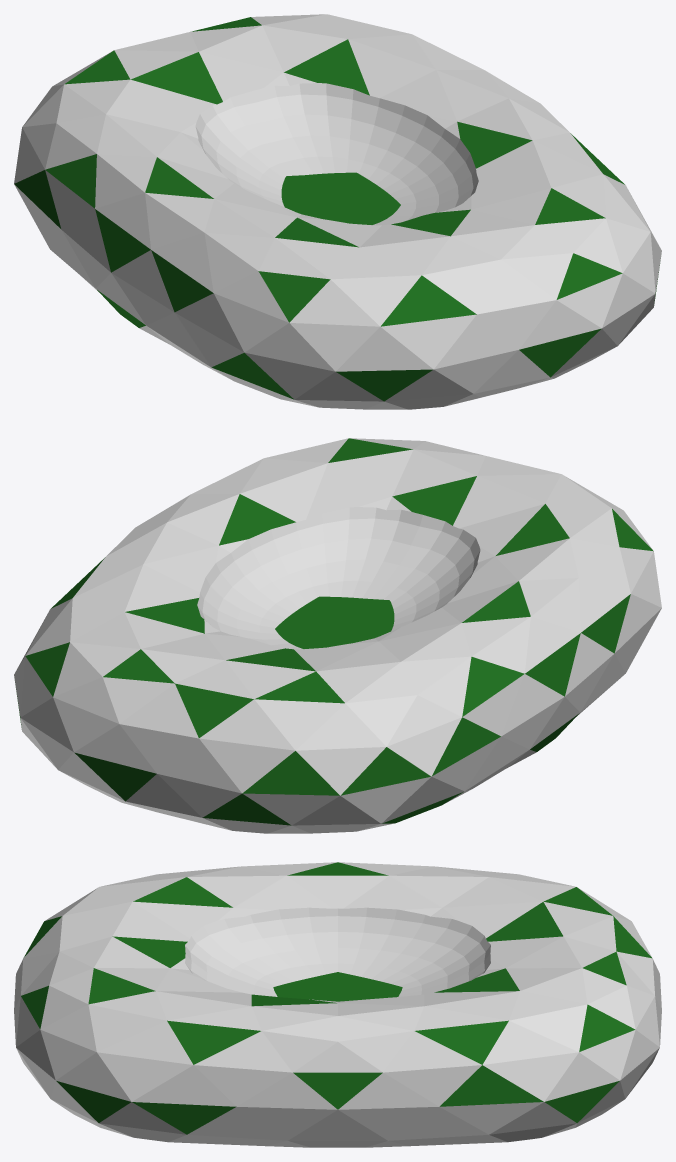
Rendered from stadyum.glb.
The picture shows the model from 3 angles, top to bottom: view 1: azimuth 30°, elevation 25°; view 2: azimuth 150°, elevation 25°; view 3: azimuth 270°, elevation 25°; orthographic projection. The views are drawn at different scales.
Parts seen in each view (by area): view 1: Icosphere; view 2: Icosphere; view 3: Icosphere.
Part boxes in pixels (<box>): Icosphere: <box>14,14,661,409</box>; Icosphere: <box>14,438,661,833</box>; Icosphere: <box>14,862,661,1147</box>.
Bounding box in the file's own units: 12.73 × 3.5 × 17.59.
